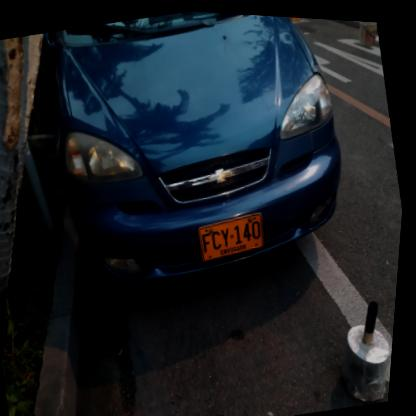placa: (192, 202, 276, 264)
